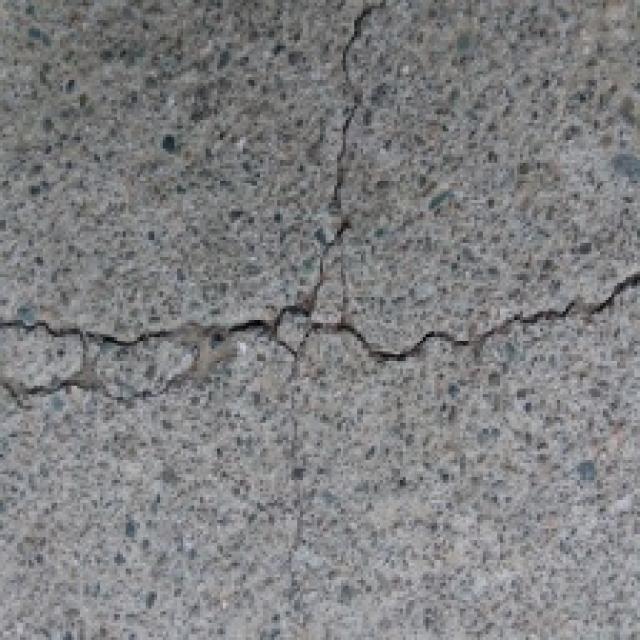crack: (0, 240, 640, 382), (306, 0, 394, 318)
